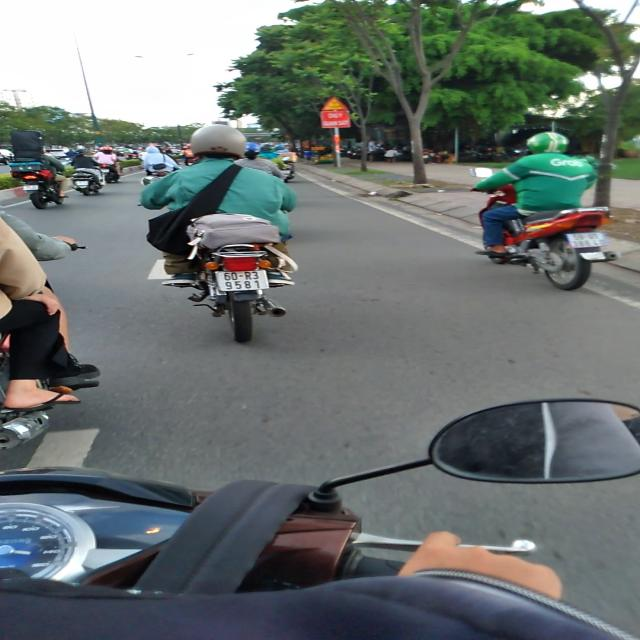Nguy hiem: (321, 96, 349, 111)
